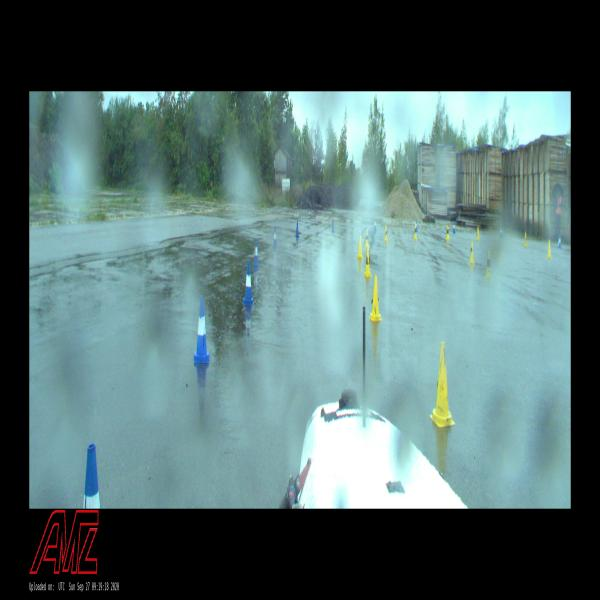blue_cone: (194, 297, 210, 364), (84, 444, 100, 509), (243, 262, 254, 303), (253, 238, 259, 268), (296, 220, 300, 238), (331, 218, 335, 233), (558, 233, 561, 248), (453, 221, 456, 234), (274, 230, 276, 245), (374, 218, 376, 232), (416, 220, 418, 232), (500, 226, 502, 238)
yellow_cone: (430, 342, 455, 427), (369, 274, 382, 321), (364, 247, 372, 277), (486, 251, 491, 276), (470, 241, 474, 263), (358, 236, 362, 258), (366, 229, 370, 247), (384, 225, 388, 241), (547, 241, 551, 257), (414, 224, 417, 239), (524, 232, 527, 246), (446, 225, 449, 239), (477, 227, 479, 239)
